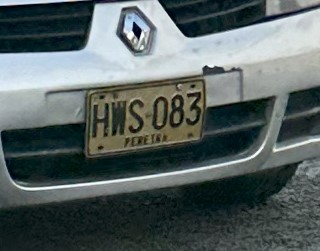number plate: (86, 79, 204, 156)
